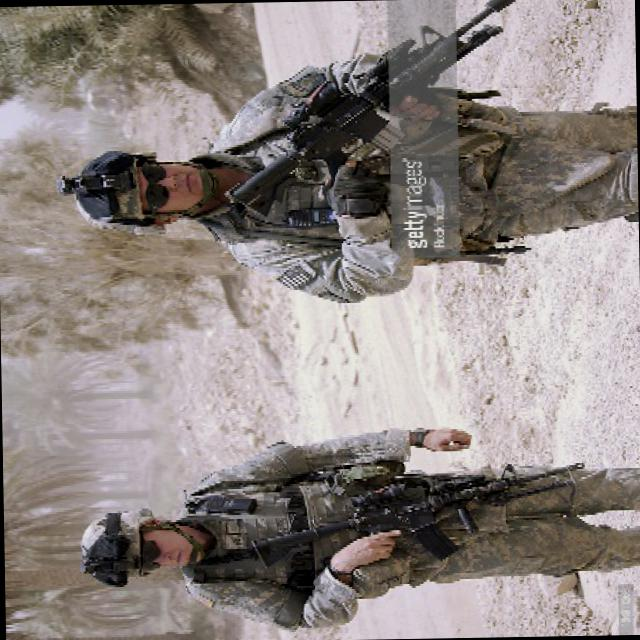long weapon: (212, 0, 525, 230), (234, 446, 591, 600)
